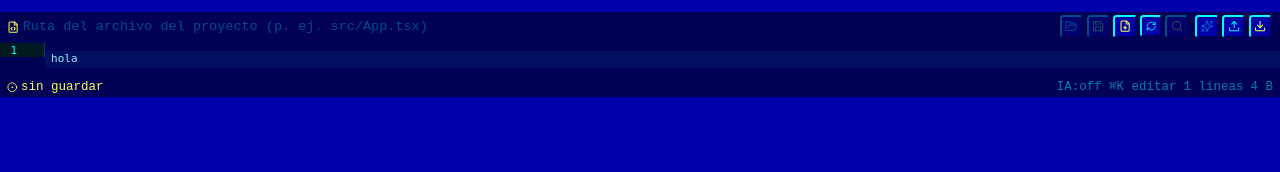
Test: EditorView › "Guardar como" escribe el contenido en un archivo nuevo del proyecto
This screenshot has width=1280, height=172.
Check: the field with class "cm-content" is shown, box x1=45 y1=51 x2=1279 y2=68
Click the button titled "Guardar como otro archivo del proyecto (Ctrl+Shift+S)": (1125, 26) x1=1113 y1=14 x2=1137 y2=38
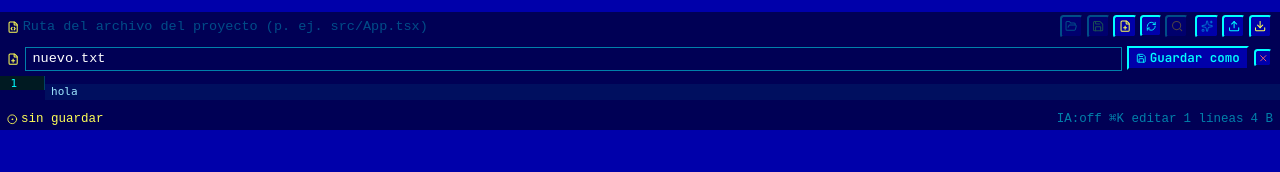
Replace the text in the field with placeholder "nueva/ruta/archivo.ts" with "docs/nota.md": (574, 59) x1=24 y1=47 x2=1122 y2=71
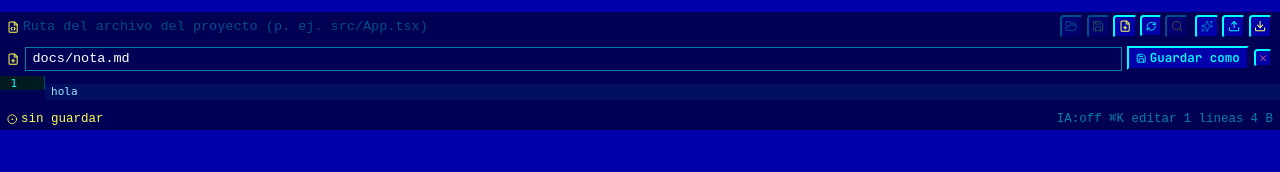
Click the button "Guardar como": (1188, 58) x1=1127 y1=46 x2=1249 y2=70
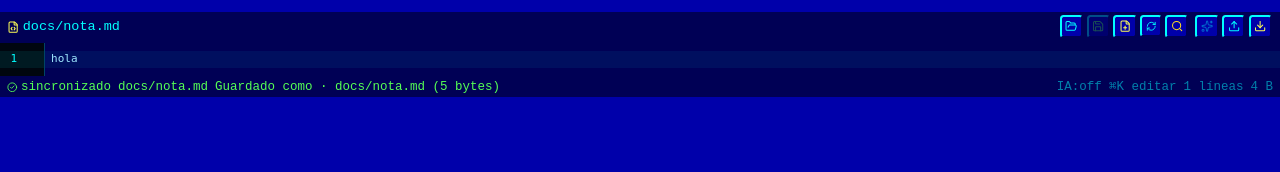
Check: the text box labelled "hola" is shown, box x1=45 y1=51 x2=1279 y2=68
Check: the text "docs/nota.md" is shown, box x1=118 y1=78 x2=208 y2=95
